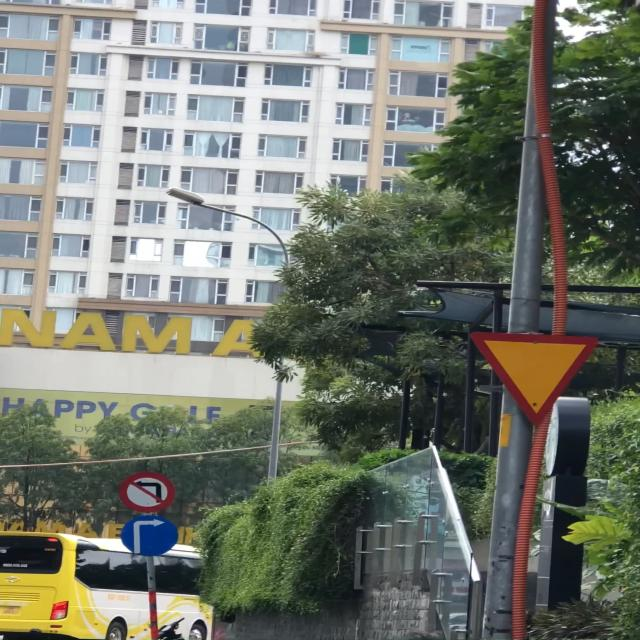Bien bao cam re trai: (117, 470, 175, 514)
Bien bao giao nhau voi duong uu tien: (464, 327, 594, 430)
Bien bao huong di phai theo: (120, 514, 183, 561)
